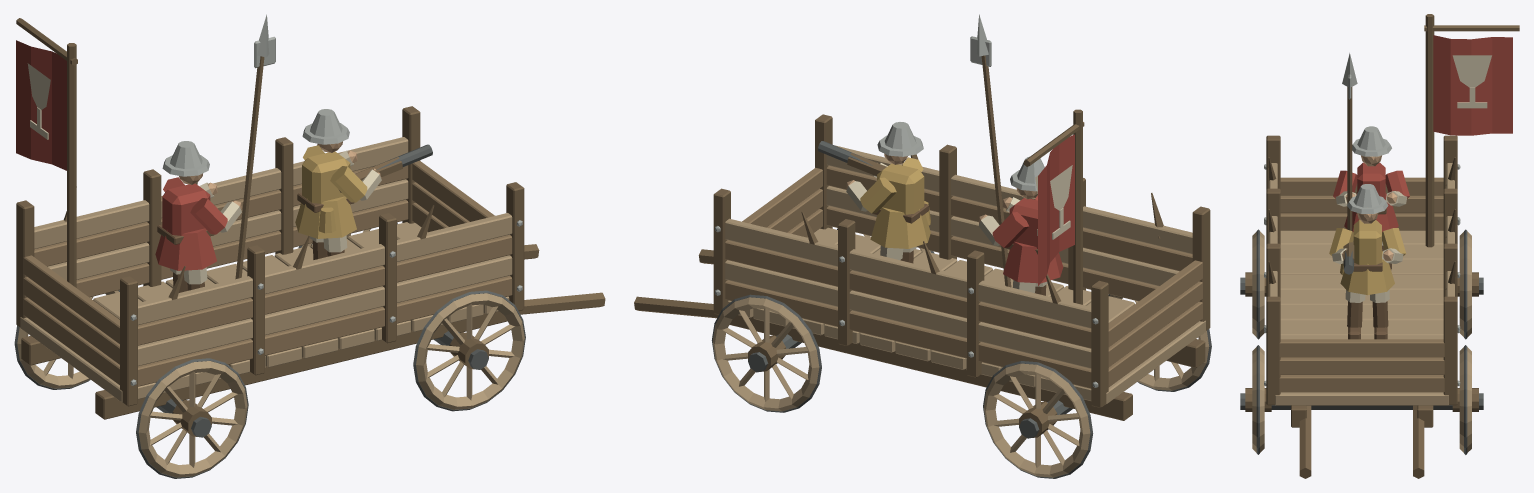
File: war_wagon.glb
The picture shows the model from 3 angles, left to right: view 1: azimuth 30°, elevation 25°; view 2: azimuth 150°, elevation 25°; view 3: azimuth 270°, elevation 25°; orthographic projection. The views are drawn at different scales.
Visible parts, largest first — view 1: war_wagon_oak_light, war_wagon_oak, war_wagon_oak_dark, war_wagon_red, war_wagon_ochre, war_wagon_iron, war_wagon_steel, war_wagon_linen, war_wagon_leather; view 2: war_wagon_oak_light, war_wagon_oak, war_wagon_oak_dark, war_wagon_red, war_wagon_ochre, war_wagon_iron, war_wagon_steel, war_wagon_linen; view 3: war_wagon_oak_light, war_wagon_oak_dark, war_wagon_oak, war_wagon_red, war_wagon_ochre, war_wagon_iron, war_wagon_linen, war_wagon_steel, war_wagon_leather, war_wagon_skin.
Boxes of the visible parts, x1=… form: war_wagon_oak_light: x1=17, y1=137, x2=524, y2=477; war_wagon_oak: x1=23, y1=160, x2=512, y2=386; war_wagon_oak_dark: x1=16, y1=18, x2=605, y2=437; war_wagon_red: x1=16, y1=40, x2=227, y2=270; war_wagon_ochre: x1=295, y1=145, x2=367, y2=238; war_wagon_iron: x1=14, y1=144, x2=525, y2=478; war_wagon_steel: x1=130, y1=14, x2=522, y2=385; war_wagon_linen: x1=27, y1=63, x2=381, y2=284; war_wagon_leather: x1=157, y1=192, x2=354, y2=292; war_wagon_oak_light: x1=713, y1=145, x2=1209, y2=477; war_wagon_oak: x1=725, y1=165, x2=1202, y2=388; war_wagon_oak_dark: x1=634, y1=55, x2=1210, y2=437; war_wagon_red: x1=992, y1=134, x2=1074, y2=285; war_wagon_ochre: x1=860, y1=157, x2=930, y2=248; war_wagon_iron: x1=711, y1=141, x2=1211, y2=478; war_wagon_steel: x1=715, y1=14, x2=1098, y2=387; war_wagon_linen: x1=846, y1=162, x2=1072, y2=292; war_wagon_oak_light: x1=1252, y1=163, x2=1471, y2=452; war_wagon_oak_dark: x1=1245, y1=14, x2=1519, y2=478; war_wagon_oak: x1=1279, y1=177, x2=1444, y2=392; war_wagon_red: x1=1333, y1=35, x2=1512, y2=231; war_wagon_ochre: x1=1329, y1=220, x2=1406, y2=295; war_wagon_iron: x1=1240, y1=229, x2=1483, y2=454; war_wagon_linen: x1=1332, y1=55, x2=1491, y2=302; war_wagon_steel: x1=1264, y1=53, x2=1460, y2=386; war_wagon_leather: x1=1347, y1=192, x2=1391, y2=339; war_wagon_skin: x1=1341, y1=155, x2=1397, y2=260.
Bounding box in the file's own units: 5.3 × 3.93 × 2.96.
